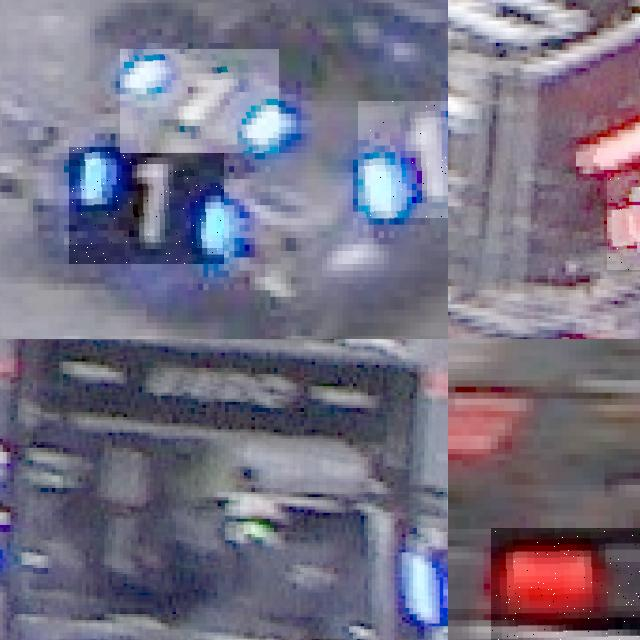B1: (69, 147, 224, 264), (120, 49, 280, 153), (358, 100, 448, 218)
R1: (491, 528, 640, 640)
R2: (607, 172, 640, 270)
